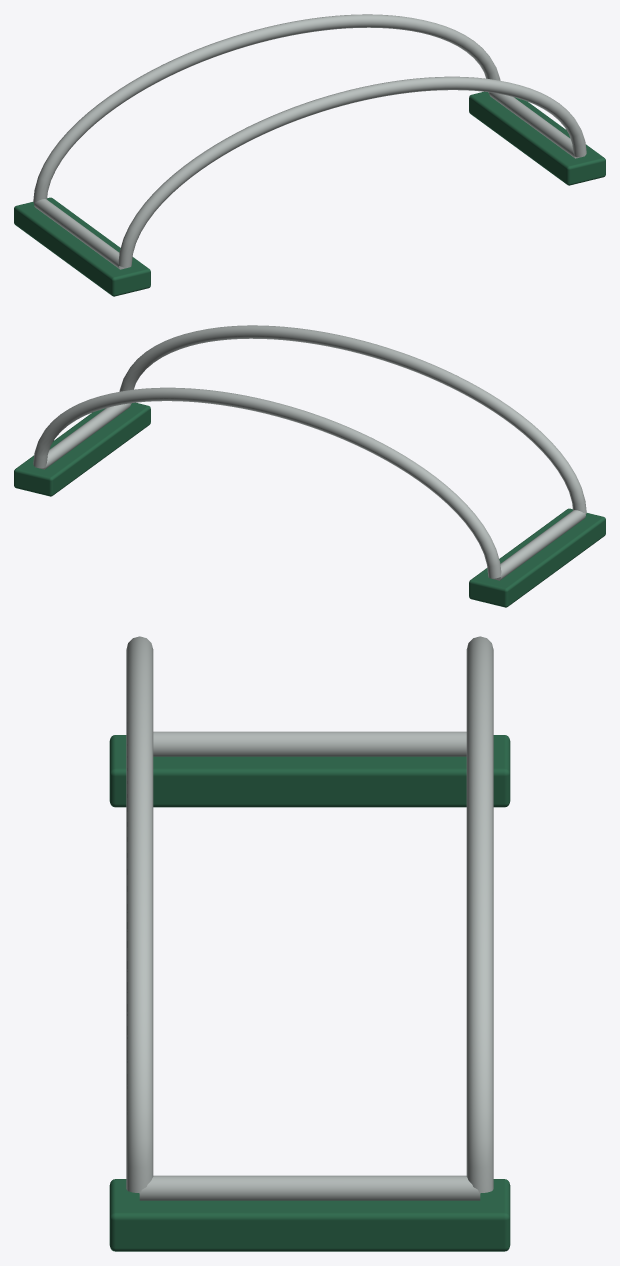
Rendered from cricket-ground-and-pavilion-pitch-cover-arch-ac1eec67.glb.
3 views of the same model, one above another, from view 1: azimuth 30°, elevation 25°; view 2: azimuth 150°, elevation 25°; view 3: azimuth 270°, elevation 25° (orthographic). The views are drawn at different scales.
Parts seen in each view (by area): view 1: pitch-cover-arch; view 2: pitch-cover-arch; view 3: pitch-cover-arch.
Boxes of the visible parts, x1=… form: pitch-cover-arch: x1=14, y1=14, x2=605, y2=296; pitch-cover-arch: x1=14, y1=325, x2=605, y2=607; pitch-cover-arch: x1=109, y1=636, x2=510, y2=1251.
Bounding box in the file's own units: 2.28 × 0.627 × 0.8.
